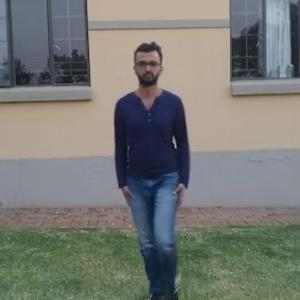follow: (111, 44, 186, 299)
